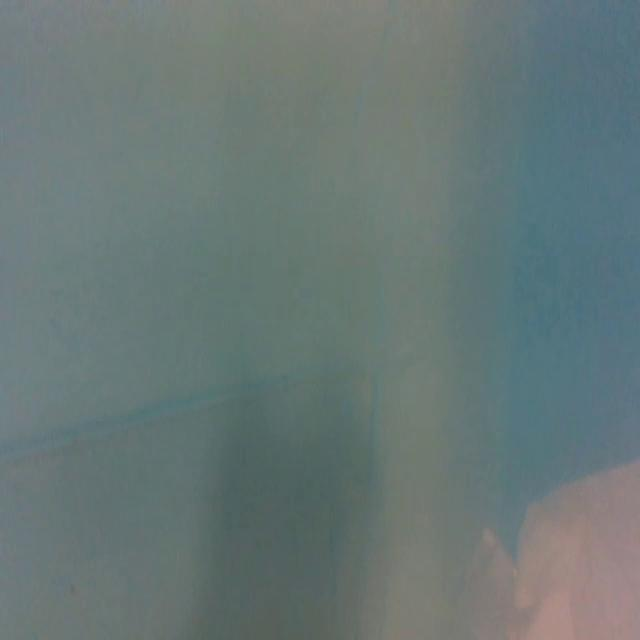plastic bags: (462, 459, 640, 640)
